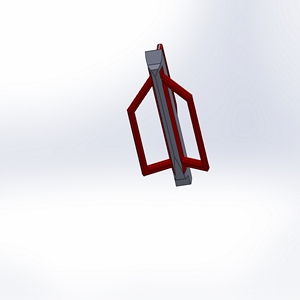submarine: (106, 38, 235, 202)
